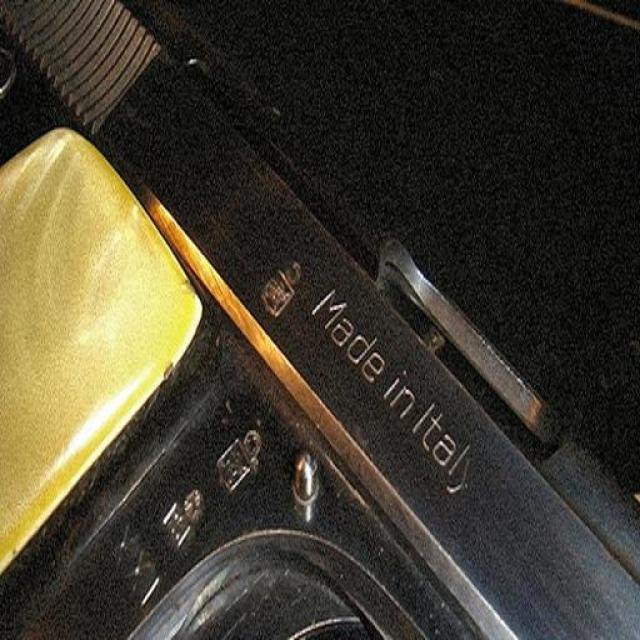pistol: (11, 4, 635, 624)
